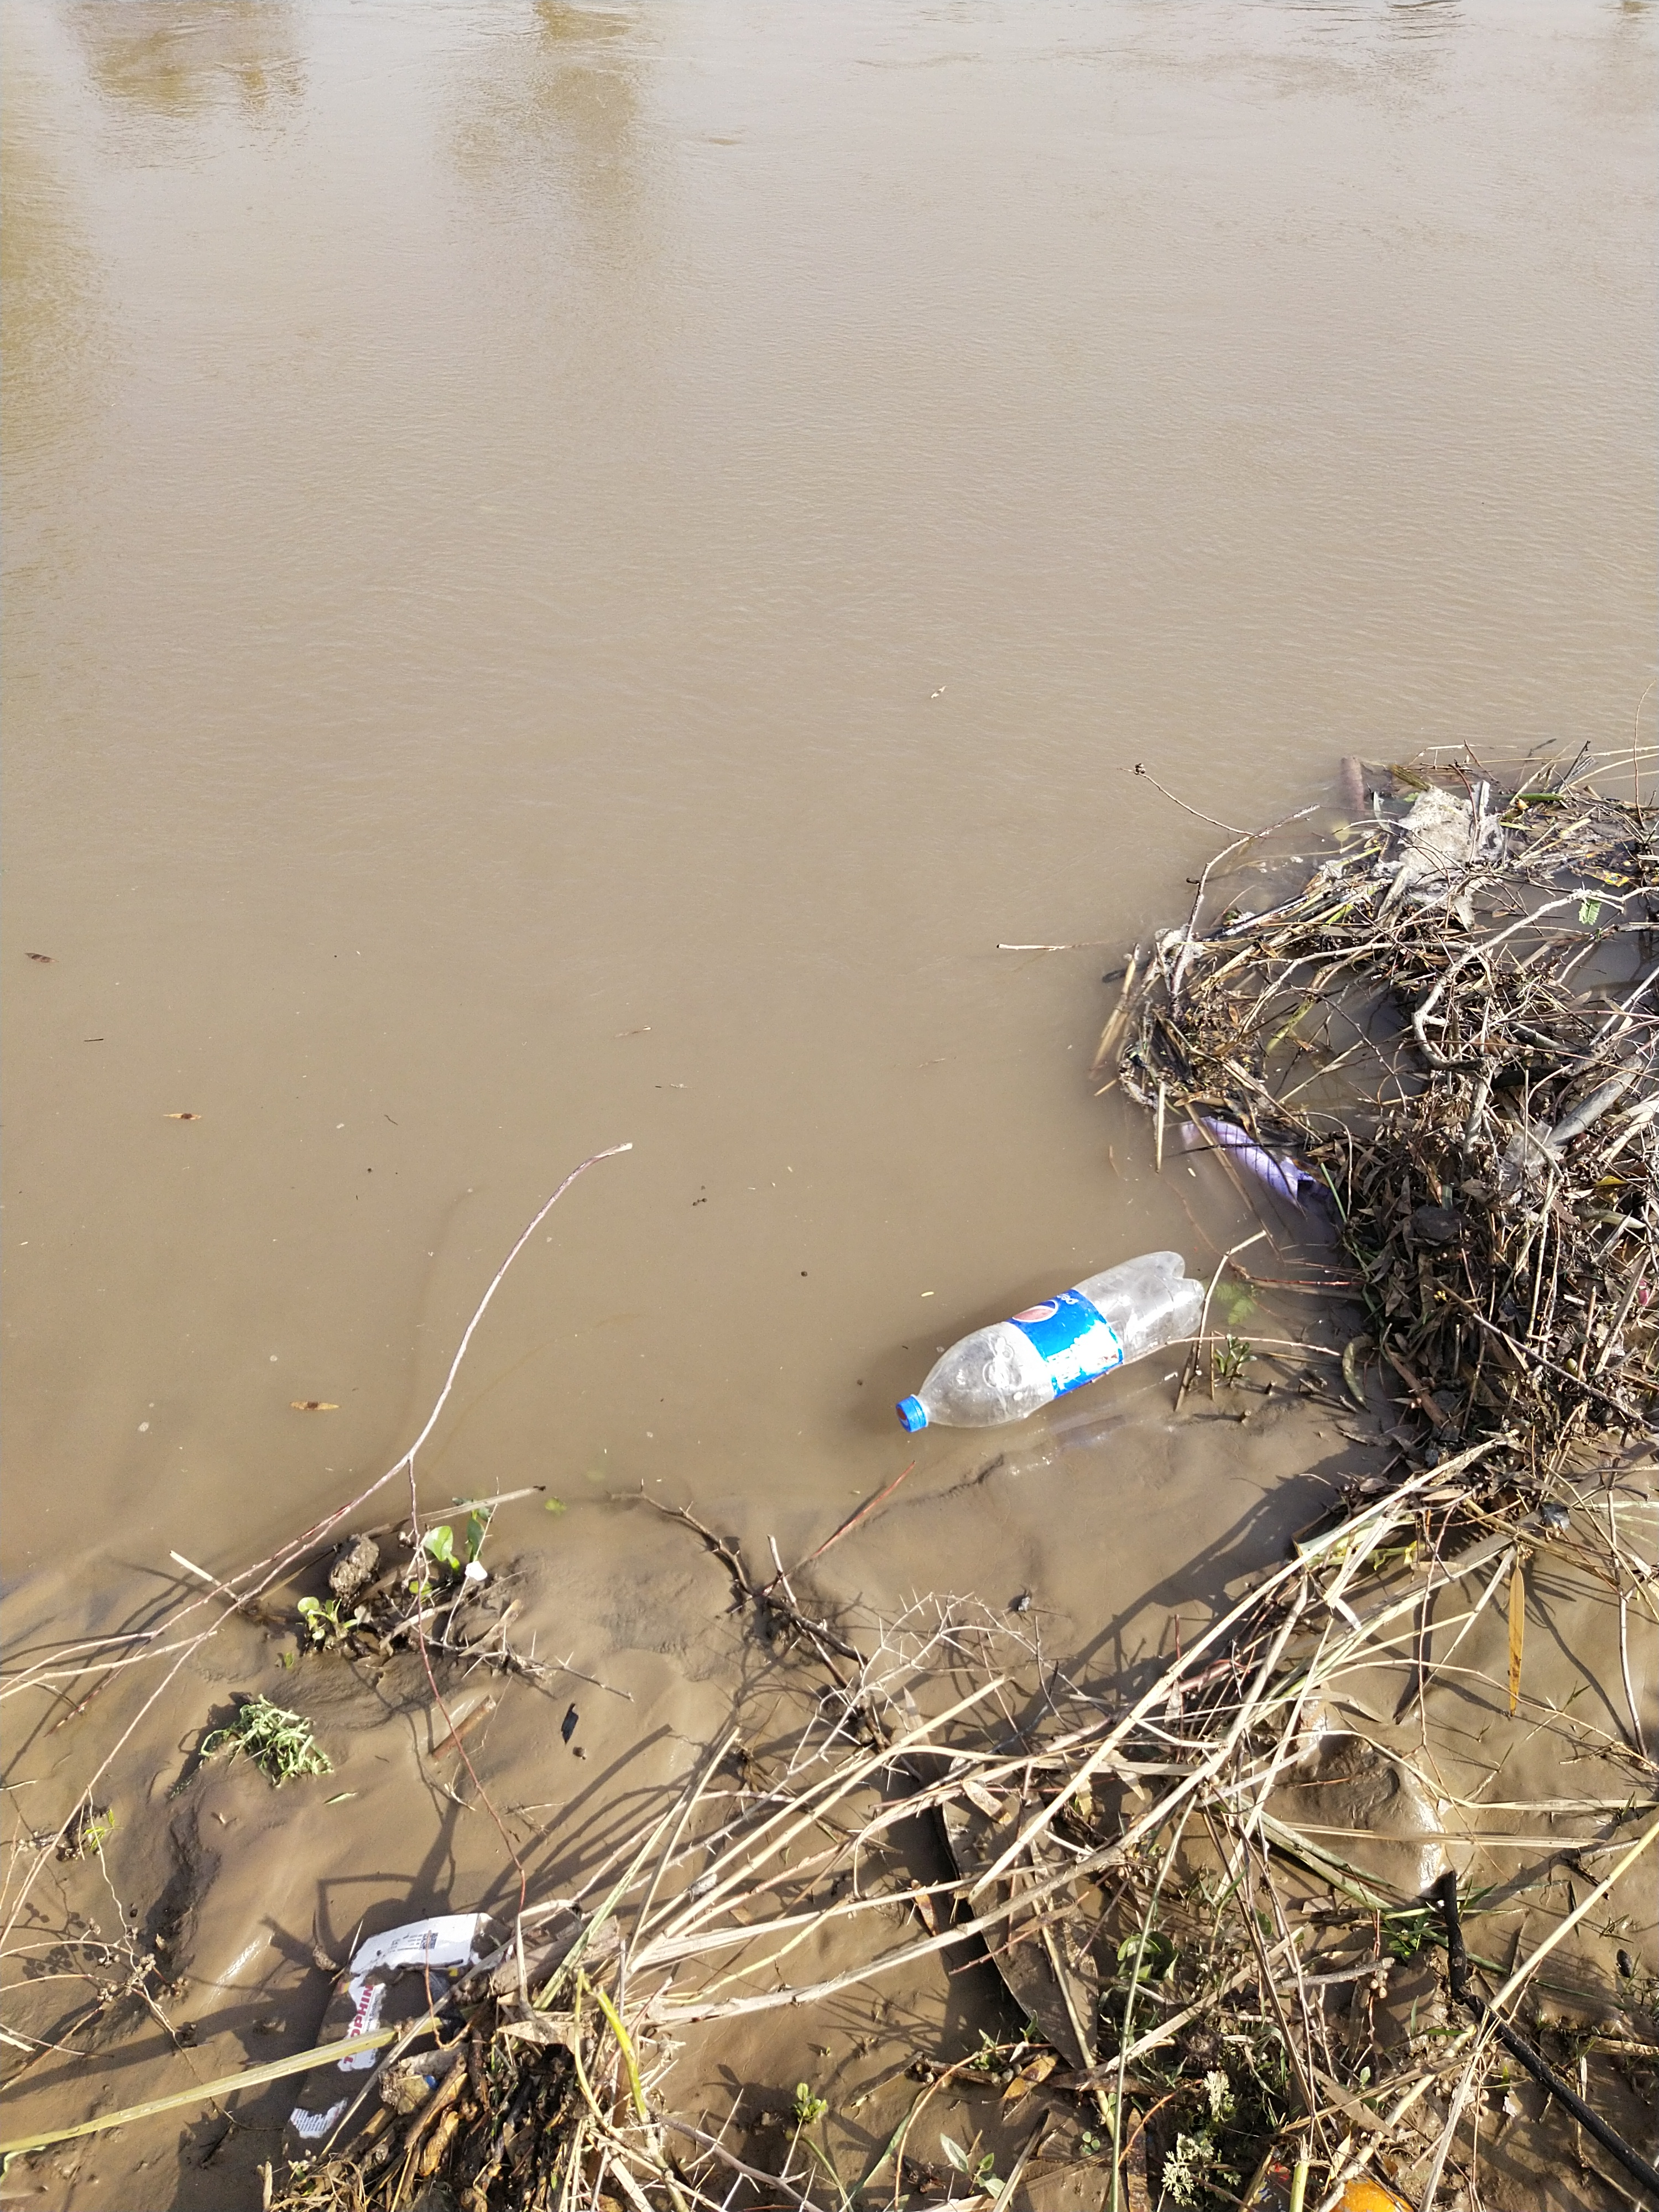Plastic Bottle: (896, 1251, 1204, 1433)
